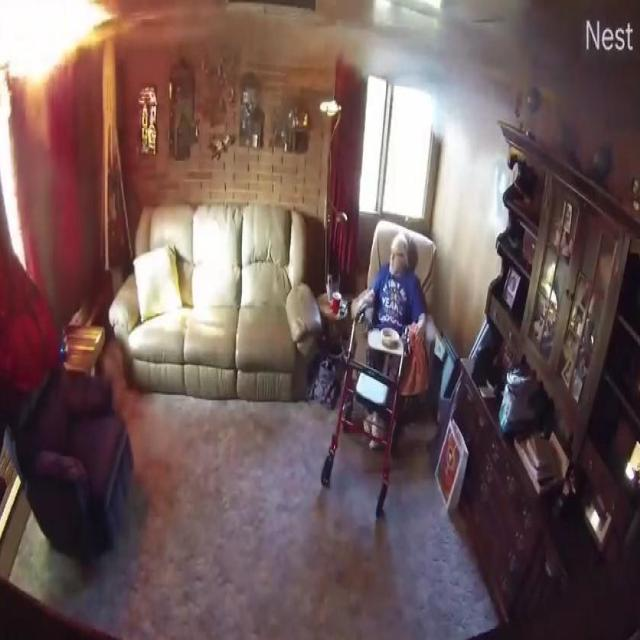fire: (343, 16, 520, 162)
smoke: (0, 0, 117, 86)
